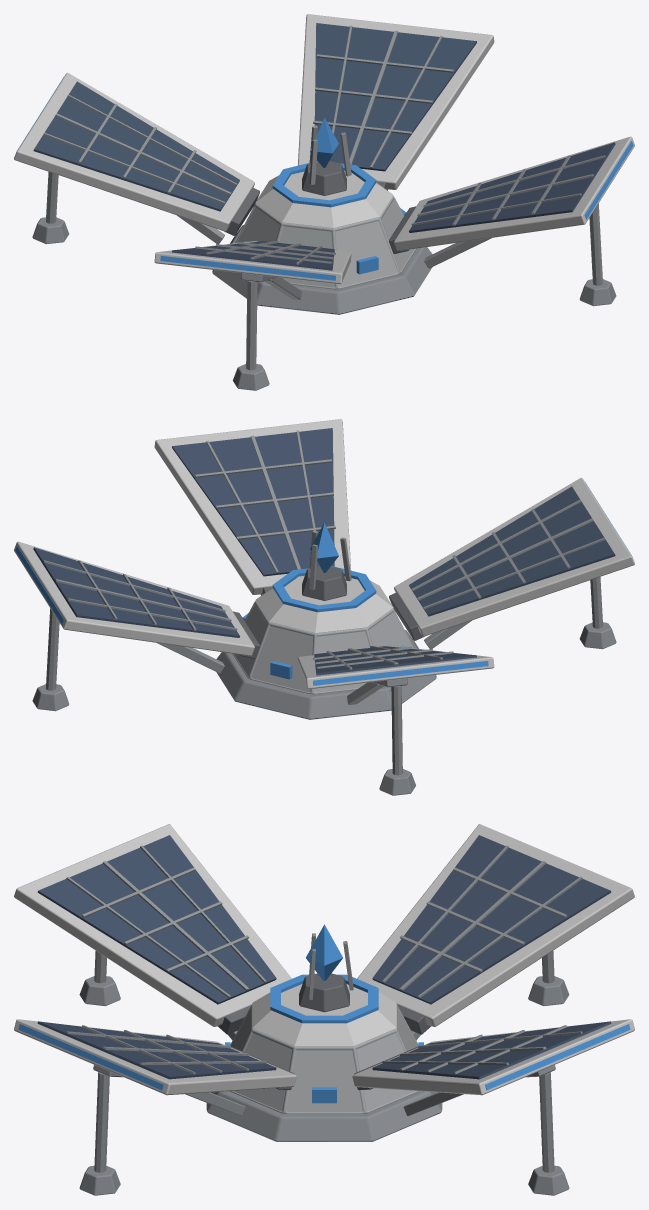
Rendered from lattice_solar_collector.glb.
3 renders of one model, top to bottom at view 1: azimuth 30°, elevation 25°; view 2: azimuth 150°, elevation 25°; view 3: azimuth 270°, elevation 25°, orthographic. The views are drawn at different scales.
Parts seen in each view (by area): view 1: Body; view 2: Body; view 3: Body.
Part boxes in pixels (<box>): Body: <box>14,14,634,390</box>; Body: <box>14,419,634,795</box>; Body: <box>14,824,634,1195</box>.
Size of the model in its own units: 12.53 by 3.75 by 12.53.
